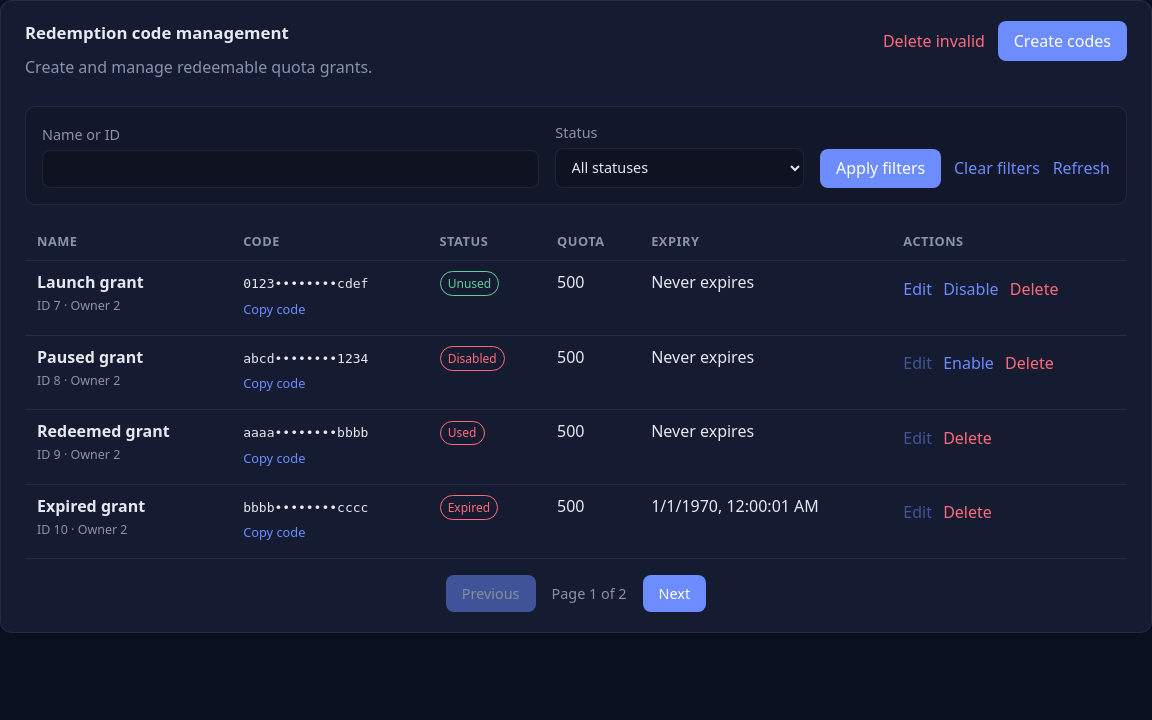
Scenario: RedemptionAdminView › requires confirmation for individual and invalid-code deletion
Click the button "Delete" in the row of "Launch grant" at (1034, 289), box [1010, 271, 1058, 306]
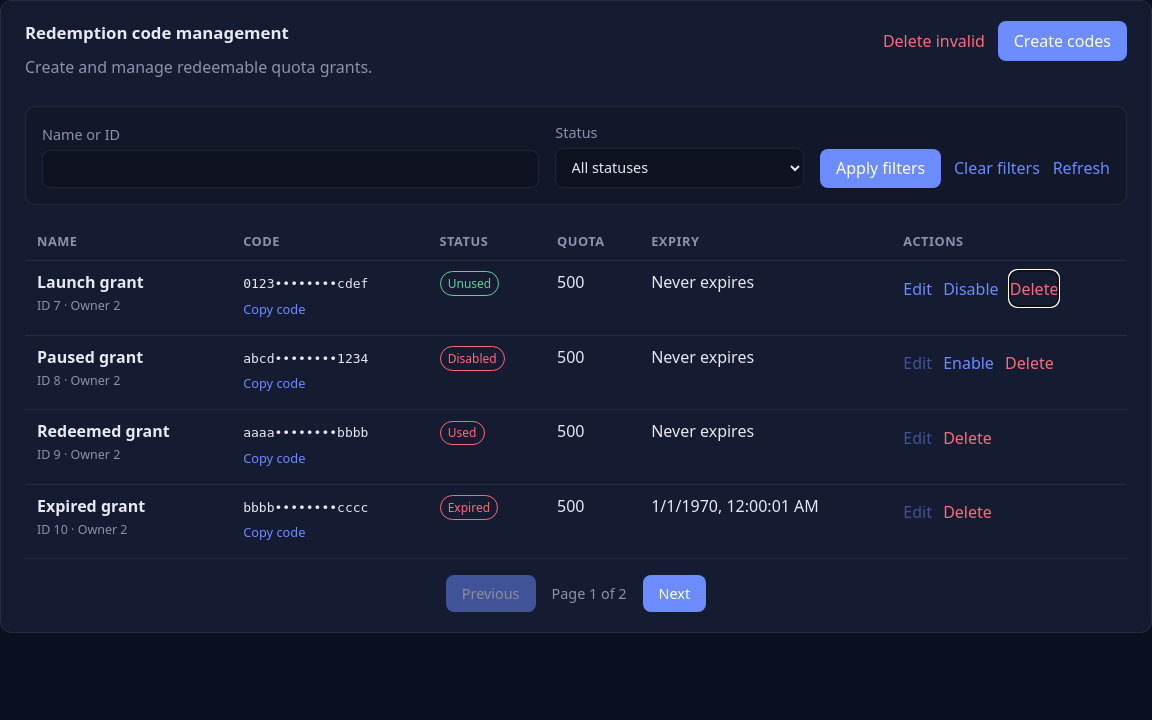
Click the button "Delete invalid" at (934, 41), box [883, 23, 985, 58]
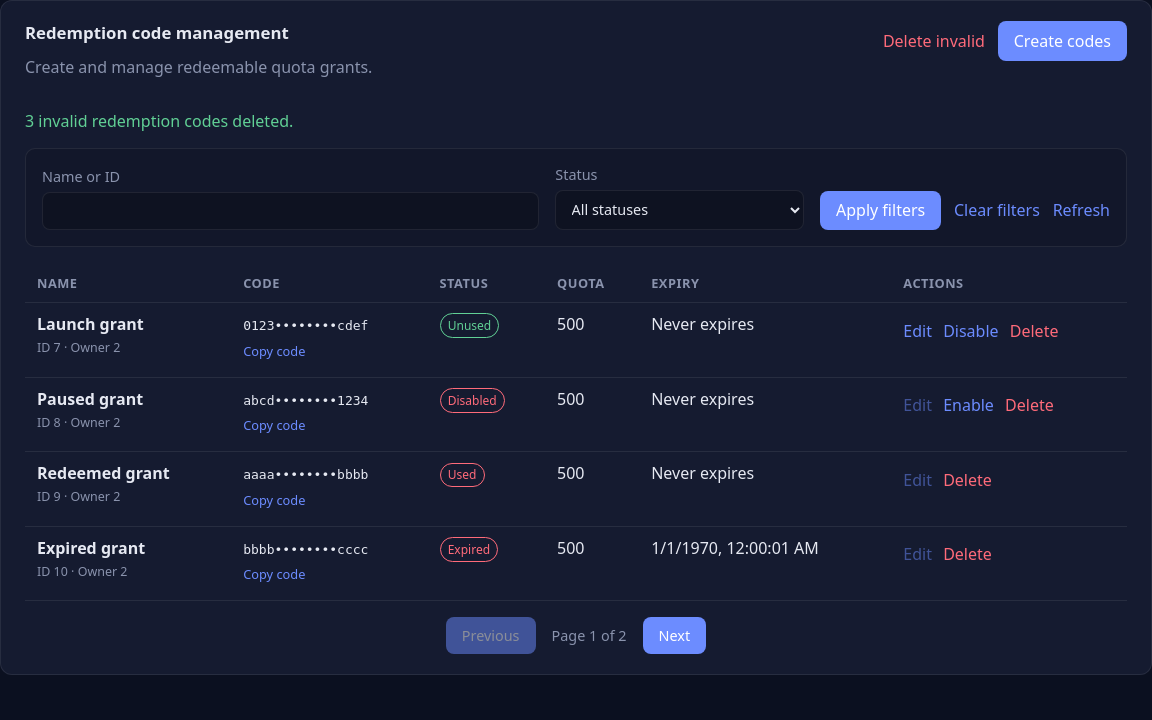
Now the message reads "3 invalid redemption codes deleted.", box [25, 110, 293, 132]
